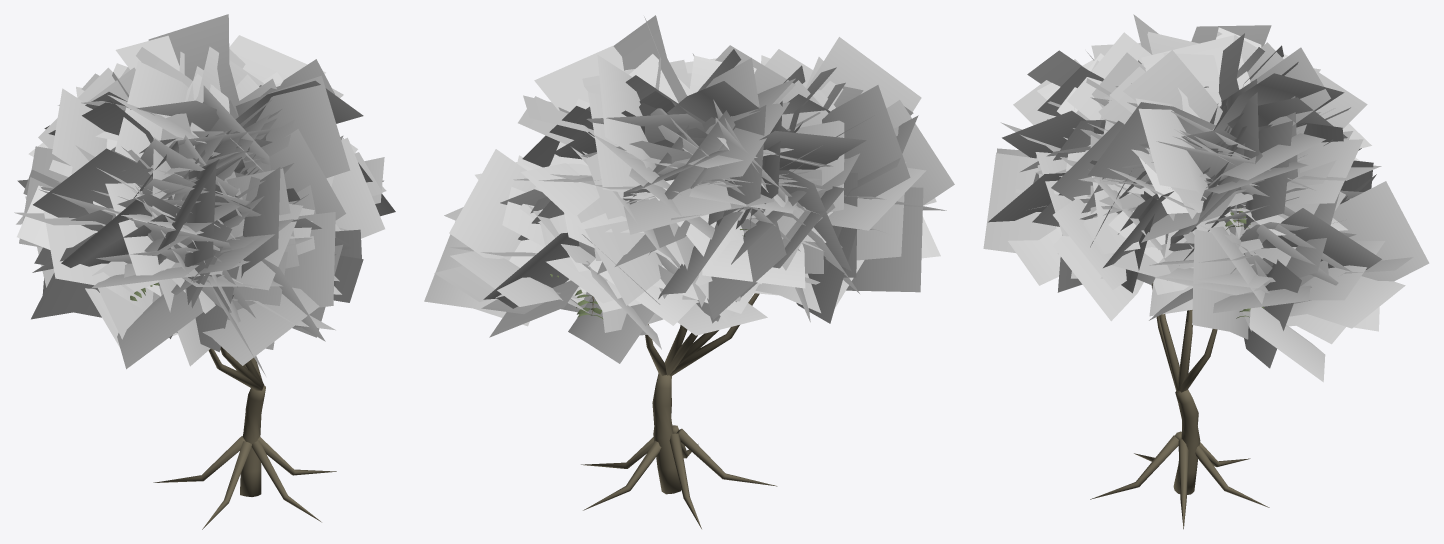
Rendered from Oleastre_Jeune_LOD0.fbx.
3 renders of one model, left to right at view 1: azimuth 30°, elevation 25°; view 2: azimuth 150°, elevation 25°; view 3: azimuth 270°, elevation 25°, orthographic. The views are drawn at different scales.
Visible parts, largest first — view 1: Oleastre_Jeune; view 2: Oleastre_Jeune; view 3: Oleastre_Jeune.
Boxes of the visible parts, <box> form: Oleastre_Jeune: <box>14,14,395,529</box>; Oleastre_Jeune: <box>424,15,954,528</box>; Oleastre_Jeune: <box>983,14,1429,529</box>.
Size of the model in its own units: 297 by 316 by 297.
